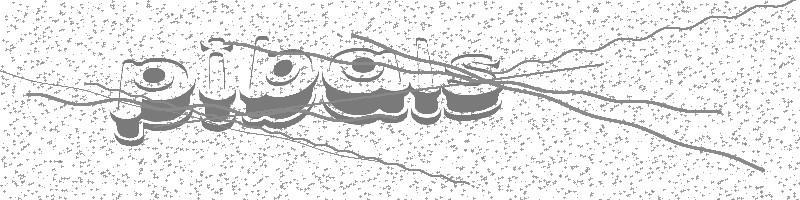a: (322, 44, 410, 126)
b: (238, 32, 322, 133)
i: (194, 30, 239, 138)
l: (407, 36, 447, 128)
p: (108, 52, 196, 152)
s: (441, 42, 511, 122)
